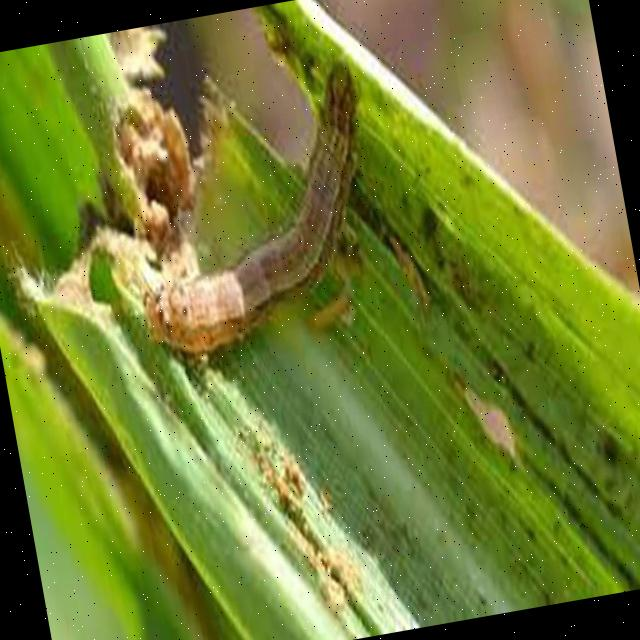worm: (55, 46, 404, 381)
